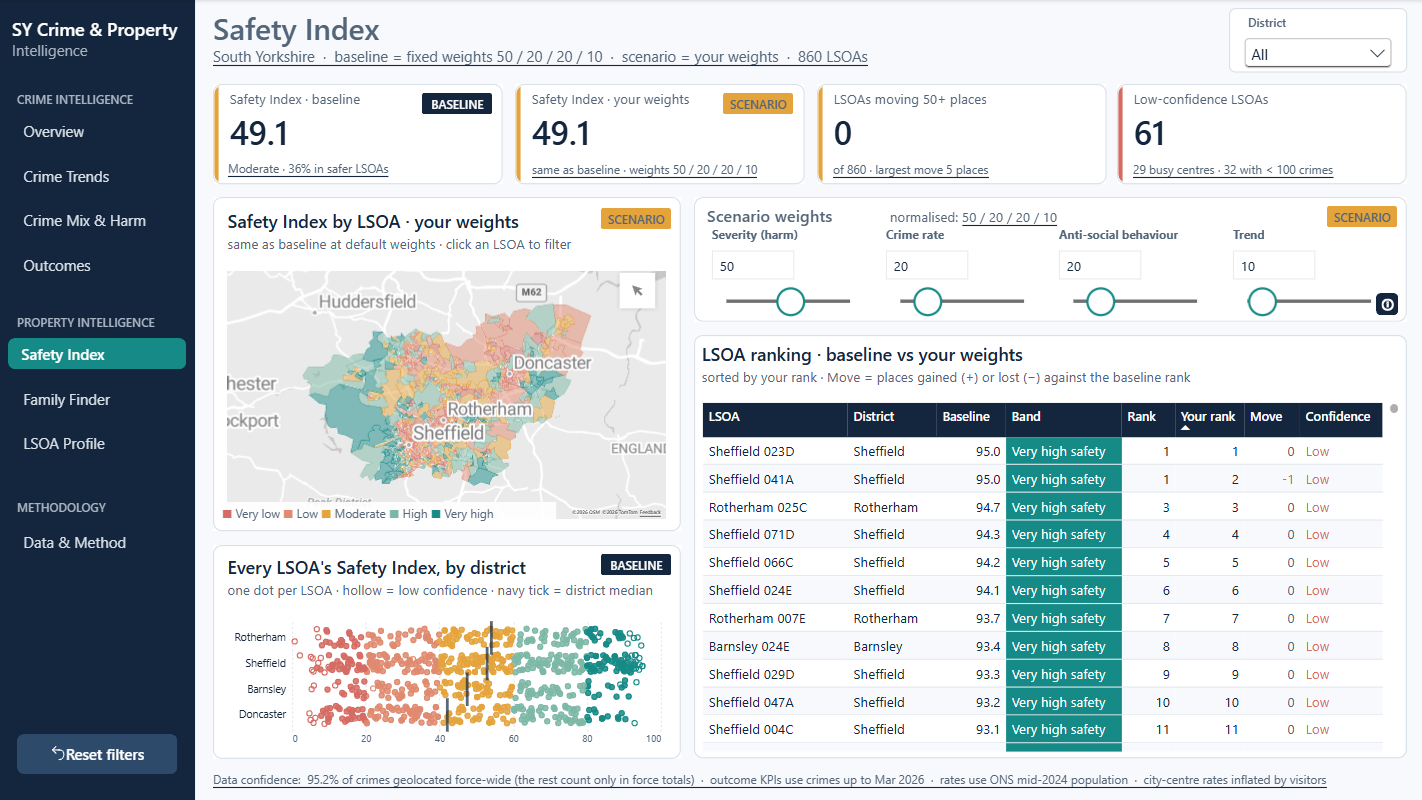

What the dashboard file says about the page in this screenshot:
{"tool":"powerbi","page":{"name":"Safety Index","canvas":[1280,720],"ordinal":4},"visuals":[{"type":"shape","box":[0,0,176,720],"z":0,"group":"g1"},{"type":"group","id":"g1","title":"Nav rail","box":[0,0,176,720],"z":0},{"type":"cardVisual","fields":{"Data":["_Measures.NSI (Custom Weights)"]},"box":[463,76,260,90],"z":0,"group":"g7"},{"type":"cardVisual","fields":{"Data":["_Measures.LSOAs Moved 50+ Places"]},"box":[734,76,260,90],"z":0,"group":"g8"},{"type":"cardVisual","fields":{"Data":["_Measures.Low Confidence LSOAs"]},"box":[1004,76,260,90],"z":0,"group":"g9"},{"type":"cardVisual","title":"Card","fields":{"Data":["_Measures.NSI"]},"box":[192.1,76.3,260,90],"z":0,"group":"g6"},{"type":"shape","box":[380,84,63,19],"z":0,"group":"g2"},{"type":"shape","box":[650,84,63,19],"z":0,"group":"g3"},{"type":"azureMap","title":"Safety Index by LSOA · your weights","fields":{"Category":["LSOA.LSOA Code"]},"box":[192,178,420,300],"z":0,"group":"g11"},{"type":"shape","box":[624,178,640,112],"z":0,"group":"g10"},{"type":"shape","box":[1192,186,63,19],"z":0,"group":"g5"},{"type":"shape","box":[540,188,63,19],"z":0,"group":"g4"},{"type":"shape","box":[540,498,63,19],"z":0,"group":"g13"},{"type":"slicer","fields":{"Values":["LSOA.Local Authority"]},"box":[1104,8,160,58],"z":1000},{"type":"textbox","box":[12,16,160,56],"z":1000,"group":"g1"},{"type":"textbox","box":[382,84,60,17.9],"z":1000,"group":"g2"},{"type":"textbox","box":[652,84,60,17.9],"z":1000,"group":"g3"},{"type":"textbox","box":[206,142,232,18],"z":1000,"group":"g6"},{"type":"textbox","box":[477.9,142,232,18],"z":1000,"group":"g7"},{"type":"textbox","box":[748,142,232,18],"z":1000,"group":"g8"},{"type":"textbox","box":[1018.6,142,232,18],"z":1000,"group":"g9"},{"type":"textbox","box":[636,184,160,20],"z":1000,"group":"g10"},{"type":"textbox","box":[1194,186,60,17.9],"z":1000,"group":"g5"},{"type":"textbox","box":[542,188,60,17.9],"z":1000,"group":"g4"},{"type":"textbox","box":[200,452,300,20],"z":1000,"group":"g11"},{"type":"textbox","box":[542,498,60,17.9],"z":1000,"group":"g13"},{"type":"textbox","box":[16,80,156,20],"z":2000,"group":"g1"},{"type":"group","id":"g2","title":"Badge - KPI1","box":[380,84,63,19],"z":2000,"group":"g6"},{"type":"group","id":"g3","title":"Badge - KPI2","box":[650,84,63,19],"z":2000,"group":"g7"},{"type":"textbox","box":[800,186,380,18],"z":2000,"group":"g10"},{"type":"group","id":"g4","title":"Badge - Azure Map","box":[540,188,63,19],"z":2000,"group":"g11"},{"type":"textbox","box":[192,690,1072,22],"z":2000},{"type":"textbox","box":[192,8,640,36],"z":3000},{"type":"group","id":"g5","title":"Badge - Scenario weights","box":[1192,186,63,19],"z":3000,"group":"g10"},{"type":"textbox","box":[16,280,156,20],"z":3000,"group":"g1"},{"type":"textbox","box":[192,42,900,22],"z":4000},{"type":"slicer","fields":{"Values":["NSI Weight Severity.Severity Weight %"]},"box":[632,204,150,82],"z":4000,"group":"g10"},{"type":"textbox","box":[16,446,156,20],"z":4000,"group":"g1"},{"type":"group","id":"g6","title":"KPI P5-1","box":[192.1,76.3,260,90],"z":5000},{"type":"pageNavigator","box":[8,104,160,150],"z":5000,"group":"g1"},{"type":"slicer","fields":{"Values":["NSI Weight Crime Rate.Crime Rate Weight %"]},"box":[788,204,150,82],"z":5000,"group":"g10"},{"type":"group","id":"g7","title":"KPI P5-2","box":[463,76,260,90],"z":6000},{"type":"slicer","fields":{"Values":["NSI Weight ASB.ASB Weight %"]},"box":[944,204,150,82],"z":6000,"group":"g10"},{"type":"pageNavigator","box":[8,304,160,108],"z":6000,"group":"g1"},{"type":"group","id":"g8","title":"KPI P5-3","box":[734,76,260,90],"z":7000},{"type":"slicer","fields":{"Values":["NSI Weight Trend.Trend Weight %"]},"box":[1100,204,150,82],"z":7000,"group":"g10"},{"type":"pageNavigator","box":[8,470,160.1,32],"z":7000,"group":"g1"},{"type":"group","id":"g9","title":"KPI P5-4","box":[1004,76,260,90],"z":8000},{"type":"actionButton","box":[1236,264,20,20],"z":8000,"group":"g10"},{"type":"actionButton","box":[16,660,144,36],"z":8000,"group":"g1"},{"type":"group","id":"g10","title":"Scenario weights","box":[624,178,640,112],"z":9000},{"type":"group","id":"g11","title":"P5 - Azure Map","box":[192,178,420,300],"z":10000},{"type":"group","id":"g12","title":"Distribution Strip","box":[192,490,420,192],"z":11000},{"type":"tableEx","title":"LSOA ranking · baseline vs your weights","fields":{"Values":["LSOA.LSOA Name","LSOA.Local Authority","LSOA.NSI Score","LSOA.NSI Band","LSOA.NSI Rank","_Measures.NSI Rank (Custom Weights)","_Measures.Rank Change (Custom vs Default)","_Measures.Safety Confidence"]},"box":[624,302,640,380],"z":12000},{"type":"deneb7E15AEF80B9E4D4F8E12924291ECE89A","title":"Every LSOA''s Safety Index, by district","fields":{"dataset":["LSOA.LSOA Code","LSOA.LSOA Name","LSOA.Local Authority","LSOA.NSI Score","LSOA.NSI Band","LSOA.NSI Rank","_Measures.Safety Confidence"]},"box":[192,490,420,192],"z":12000,"group":"g12"},{"type":"group","id":"g13","title":"Badge - KPI1","box":[540,498,63,19],"z":12500,"group":"g12"}]}

Visuals, with their boxes on the page's 1280x720 design canvas (x1, y1, x2, y2). These are canvas units, not pixel positions in the 1422x800 screenshot, which may show the page scaled, cropped or inside an application window:
shape: region(0, 0, 176, 720)
"Nav rail" group: region(0, 0, 176, 720)
cardVisual - _Measures.NSI (Custom Weights): region(463, 76, 723, 166)
cardVisual - _Measures.LSOAs Moved 50+ Places: region(734, 76, 994, 166)
cardVisual - _Measures.Low Confidence LSOAs: region(1004, 76, 1264, 166)
"Card" cardVisual: region(192, 76, 452, 166)
shape: region(380, 84, 443, 103)
shape: region(650, 84, 713, 103)
"Safety Index by LSOA · your weights" azureMap: region(192, 178, 612, 478)
shape: region(624, 178, 1264, 290)
shape: region(1192, 186, 1255, 205)
shape: region(540, 188, 603, 207)
shape: region(540, 498, 603, 517)
slicer - LSOA.Local Authority: region(1104, 8, 1264, 66)
textbox: region(12, 16, 172, 72)
textbox: region(382, 84, 442, 102)
textbox: region(652, 84, 712, 102)
textbox: region(206, 142, 438, 160)
textbox: region(478, 142, 710, 160)
textbox: region(748, 142, 980, 160)
textbox: region(1019, 142, 1251, 160)
textbox: region(636, 184, 796, 204)
textbox: region(1194, 186, 1254, 204)
textbox: region(542, 188, 602, 206)
textbox: region(200, 452, 500, 472)
textbox: region(542, 498, 602, 516)
textbox: region(16, 80, 172, 100)
"Badge - KPI1" group: region(380, 84, 443, 103)
"Badge - KPI2" group: region(650, 84, 713, 103)
textbox: region(800, 186, 1180, 204)
"Badge - Azure Map" group: region(540, 188, 603, 207)
textbox: region(192, 690, 1264, 712)
textbox: region(192, 8, 832, 44)
"Badge - Scenario weights" group: region(1192, 186, 1255, 205)
textbox: region(16, 280, 172, 300)
textbox: region(192, 42, 1092, 64)
slicer - NSI Weight Severity.Severity Weight %: region(632, 204, 782, 286)
textbox: region(16, 446, 172, 466)
"KPI P5-1" group: region(192, 76, 452, 166)
pageNavigator: region(8, 104, 168, 254)
slicer - NSI Weight Crime Rate.Crime Rate Weight %: region(788, 204, 938, 286)
"KPI P5-2" group: region(463, 76, 723, 166)
slicer - NSI Weight ASB.ASB Weight %: region(944, 204, 1094, 286)
pageNavigator: region(8, 304, 168, 412)
"KPI P5-3" group: region(734, 76, 994, 166)
slicer - NSI Weight Trend.Trend Weight %: region(1100, 204, 1250, 286)
pageNavigator: region(8, 470, 168, 502)
"KPI P5-4" group: region(1004, 76, 1264, 166)
actionButton: region(1236, 264, 1256, 284)
actionButton: region(16, 660, 160, 696)
"Scenario weights" group: region(624, 178, 1264, 290)
"P5 - Azure Map" group: region(192, 178, 612, 478)
"Distribution Strip" group: region(192, 490, 612, 682)
"LSOA ranking · baseline vs your weights" tableEx: region(624, 302, 1264, 682)
"Every LSOA''s Safety Index, by district" deneb7E15AEF80B9E4D4F8E12924291ECE89A: region(192, 490, 612, 682)
"Badge - KPI1" group: region(540, 498, 603, 517)
